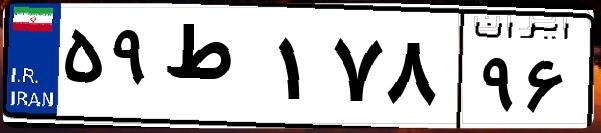1: (270, 28, 330, 110)
5: (57, 26, 110, 100)
6: (525, 38, 570, 115)
7: (330, 28, 385, 110)
8: (385, 28, 445, 110)
9: (475, 38, 525, 113), (110, 28, 158, 98)
ط: (158, 20, 270, 120)
